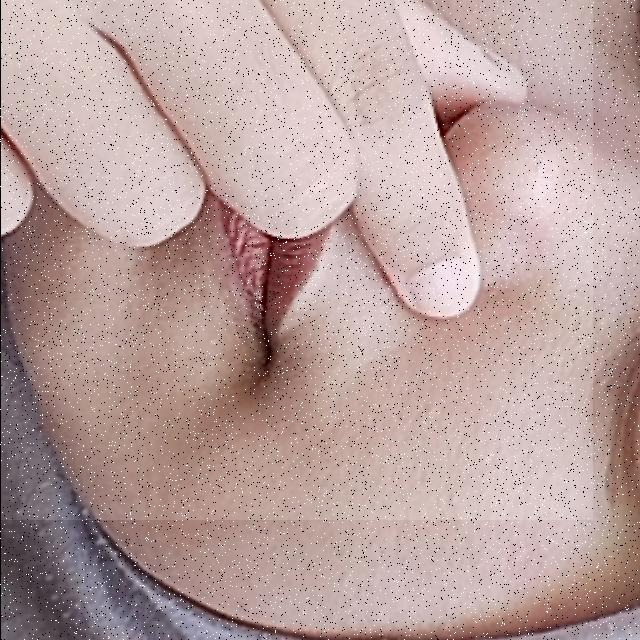bau: (0, 0, 592, 520)
